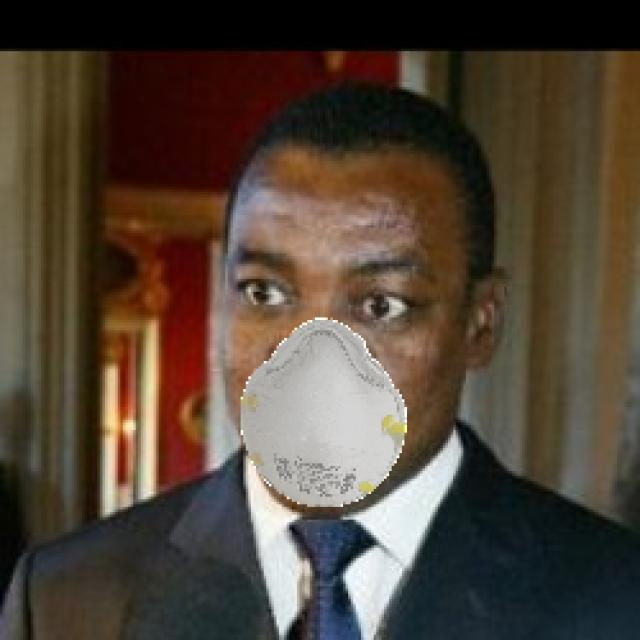mask: (243, 320, 416, 521)
